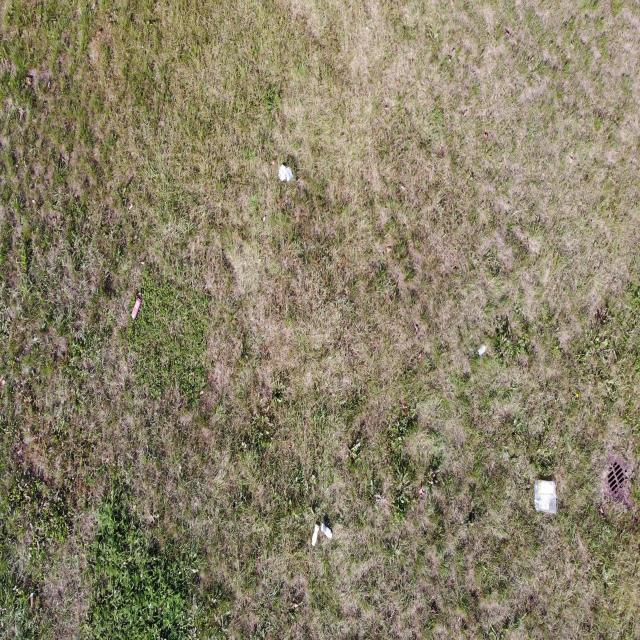rubbish: (533, 480, 558, 513), (278, 164, 293, 183), (319, 521, 333, 540), (131, 298, 142, 319), (476, 342, 488, 356), (312, 524, 319, 546)
